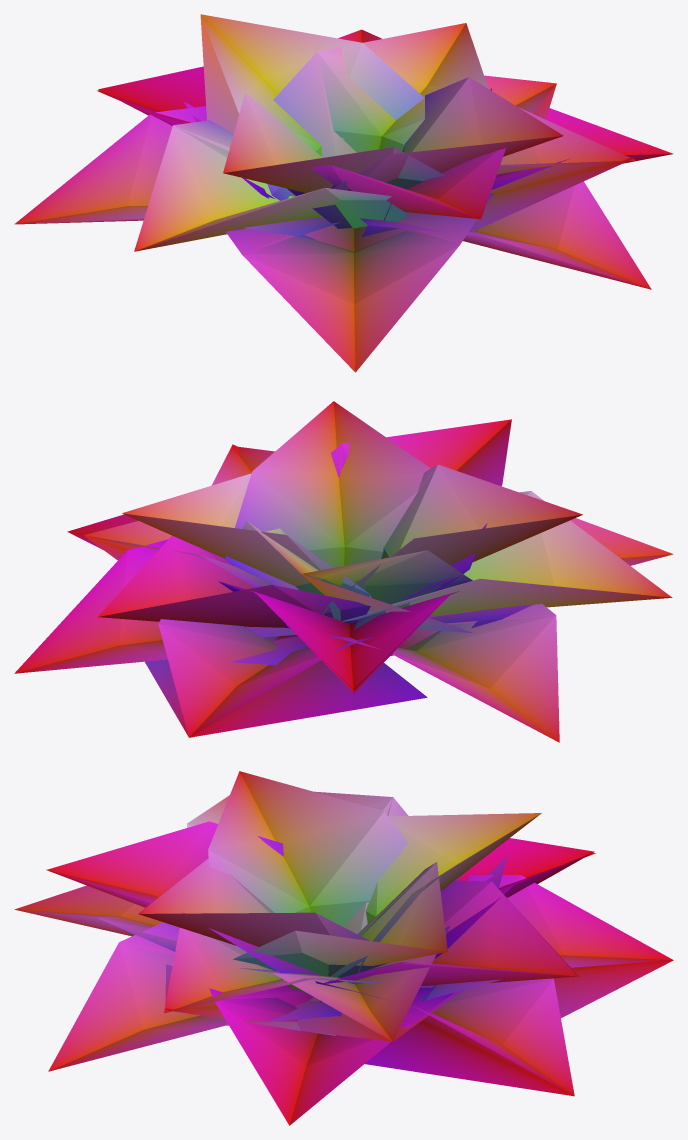
Rendered from broadfern_centered_b.dae.
3 views of the same model, one above another, from view 1: azimuth 30°, elevation 25°; view 2: azimuth 150°, elevation 25°; view 3: azimuth 270°, elevation 25° (orthographic). The views are drawn at different scales.
Visible parts, largest first — view 1: broadfern64, broadfern8; view 2: broadfern64, broadfern8; view 3: broadfern64, broadfern8.
Part boxes in pixels (x1,y1,x2,y2): broadfern64: [14, 14, 673, 372]; broadfern8: [21, 15, 672, 288]; broadfern64: [14, 401, 673, 742]; broadfern8: [84, 444, 672, 737]; broadfern64: [14, 771, 673, 1125]; broadfern8: [15, 797, 673, 1096].
Bounding box in the file's own units: 2.74 × 2.7 × 0.8151.
